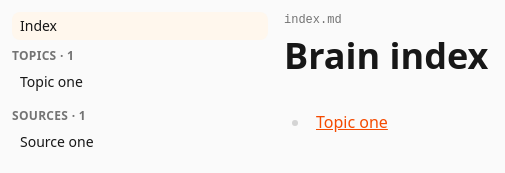
it: BrainView › navigates index → note → wiki-linked note → index
The image size is (505, 173).
Click the link "Topic one". click: (352, 122)
box: [316, 111, 388, 133]
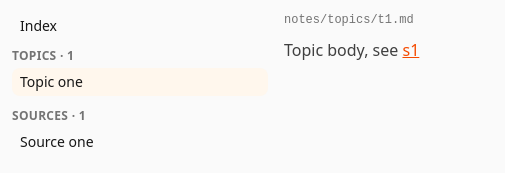
Result: the text "Topic body, see s1" is shown at [284, 39, 419, 61]
Click the link "s1". click: (411, 50)
box: [402, 39, 419, 61]
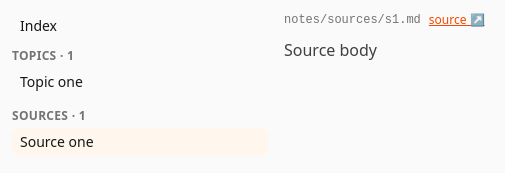
Result: the text "Source body" is shown at [284, 39, 377, 61]
Click the button "Index". click: (140, 26)
box: [12, 12, 268, 40]
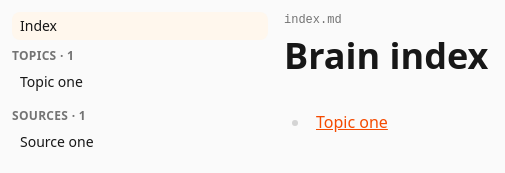
Result: the heading "Brain index" is shown at [284, 31, 488, 80]
